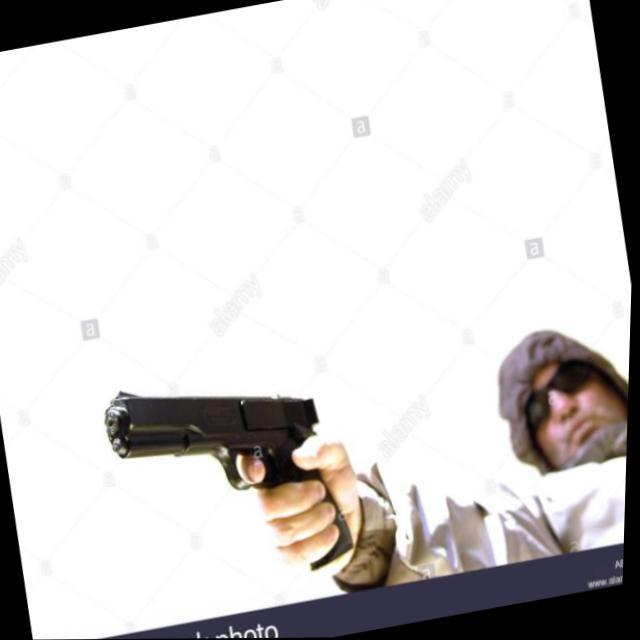weapon: (97, 352, 366, 604)
